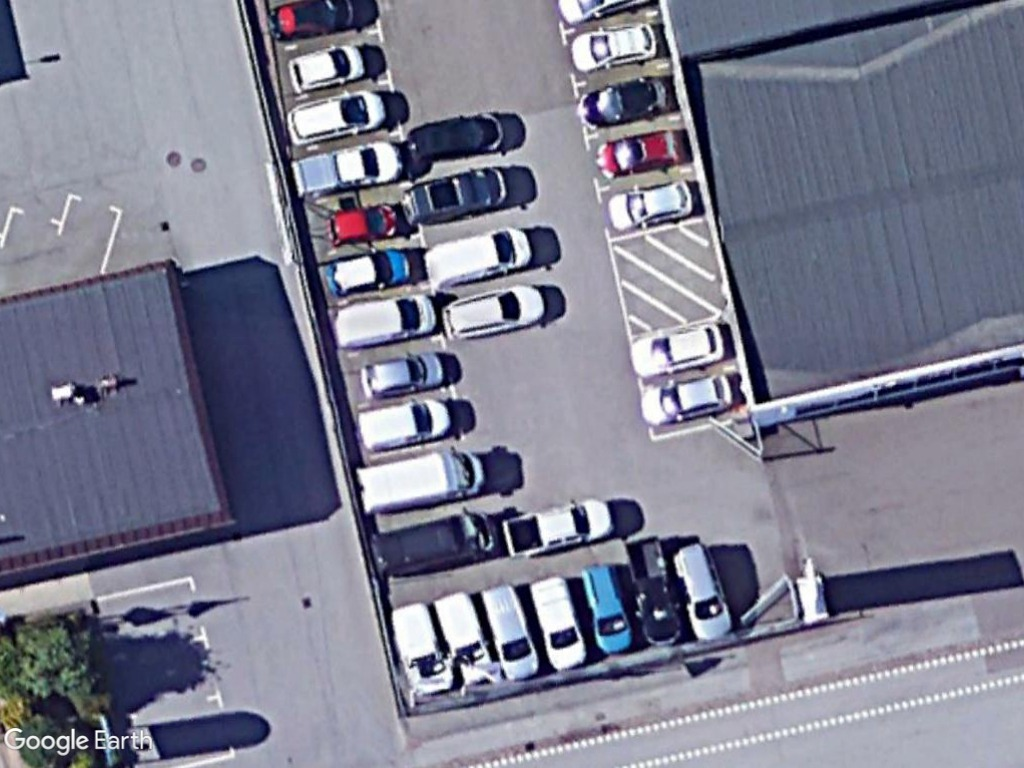car: (475, 580, 545, 682), (625, 318, 733, 382), (671, 539, 735, 645), (438, 281, 549, 341), (285, 86, 393, 147), (528, 572, 592, 671), (638, 368, 737, 431), (574, 73, 680, 131), (605, 173, 698, 234), (569, 17, 661, 76), (581, 559, 635, 658), (595, 123, 690, 179), (319, 245, 414, 300), (360, 347, 451, 400), (285, 40, 368, 94), (320, 203, 402, 248)
other: (499, 495, 614, 563), (622, 531, 685, 649)
van: (345, 448, 487, 522), (368, 506, 504, 580), (422, 227, 534, 294), (335, 289, 443, 352), (351, 392, 457, 451)
